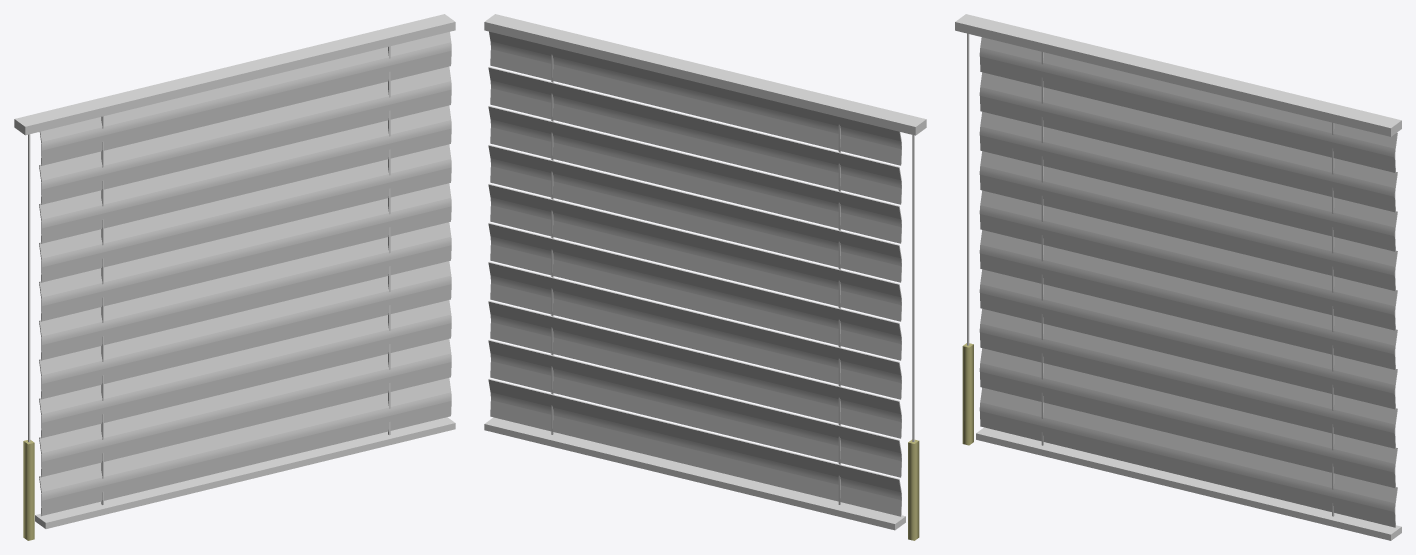
File: Shutters_Closed.fbx
3 renders of one model, left to right at view 1: azimuth 30°, elevation 25°; view 2: azimuth 150°, elevation 25°; view 3: azimuth 330°, elevation 25°, orthographic.
Visible parts, largest first — view 1: Shutter_Closed; view 2: Shutter_Closed; view 3: Shutter_Closed.
Boxes of the visible parts, x1,y1,x2,y2 form: Shutter_Closed: [14, 14, 455, 540]; Shutter_Closed: [484, 14, 926, 540]; Shutter_Closed: [955, 14, 1401, 540].
Bounding box in the file's own units: 121 × 112 × 5.23.
